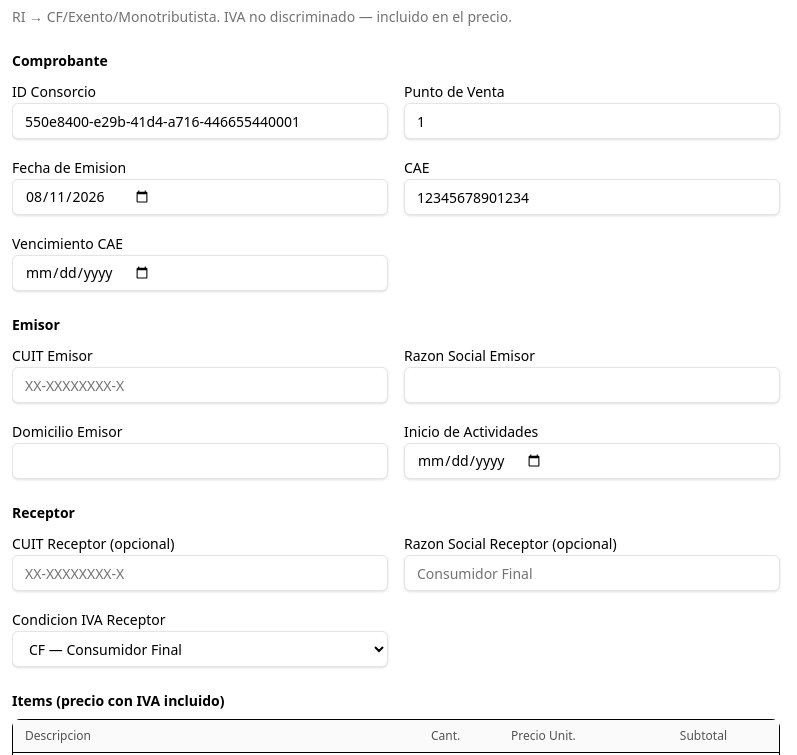
Test: FacturaBForm › [@validation] requires CUIT on submit when total >= $5000
This screenshot has width=797, height=755.
Earlier steps of the test are not shown.
Step 1. Type "2026-12-31" into the date field labelled "Vencimiento CAE" → [200, 273], box left=12, top=255, right=388, bottom=291
Step 2. Type "20123456786" into the field labelled "CUIT Emisor" → [200, 385], box left=12, top=367, right=388, bottom=403
Step 3. Type "Administracion Norte SA" into the field labelled "Razon Social Emisor" → [592, 385], box left=404, top=367, right=780, bottom=403
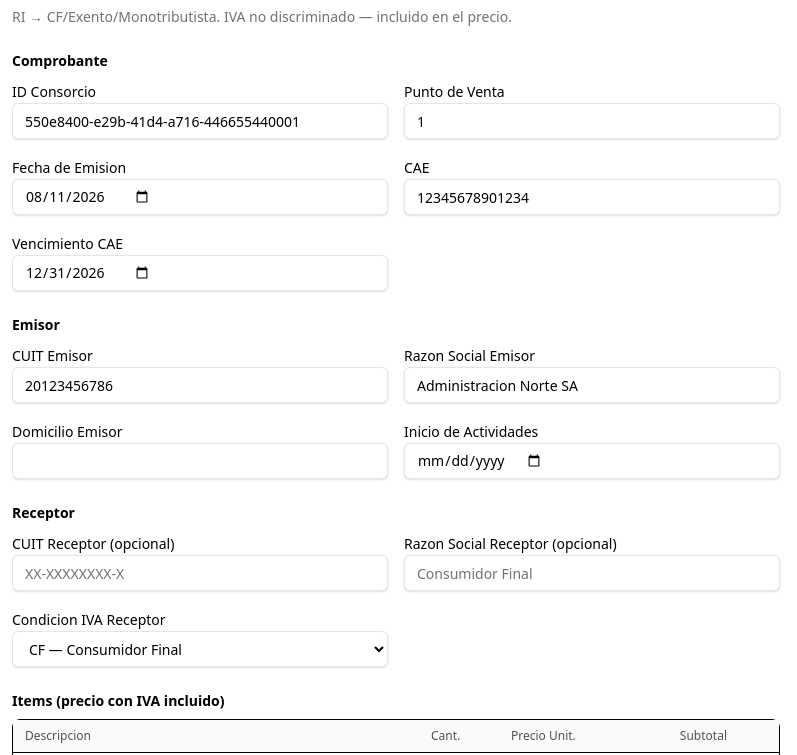
Step 4. Type "Av. Corrientes 1234" into the field labelled "Domicilio Emisor" → [200, 461], box left=12, top=443, right=388, bottom=479
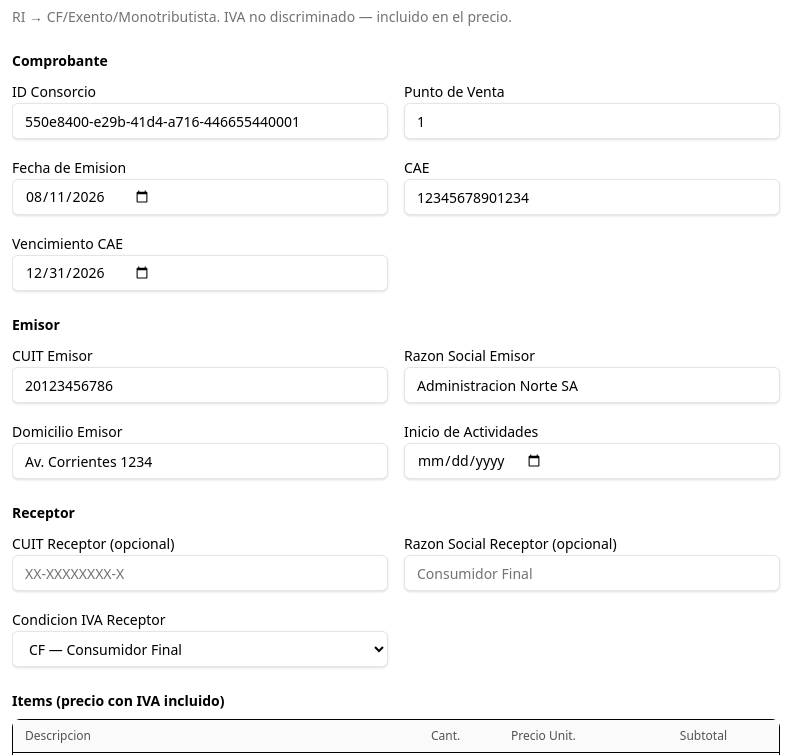
Step 5. Type "2020-01-01" into the date field labelled "Inicio de Actividades" → [592, 461], box left=404, top=443, right=780, bottom=479
(page scrolled)
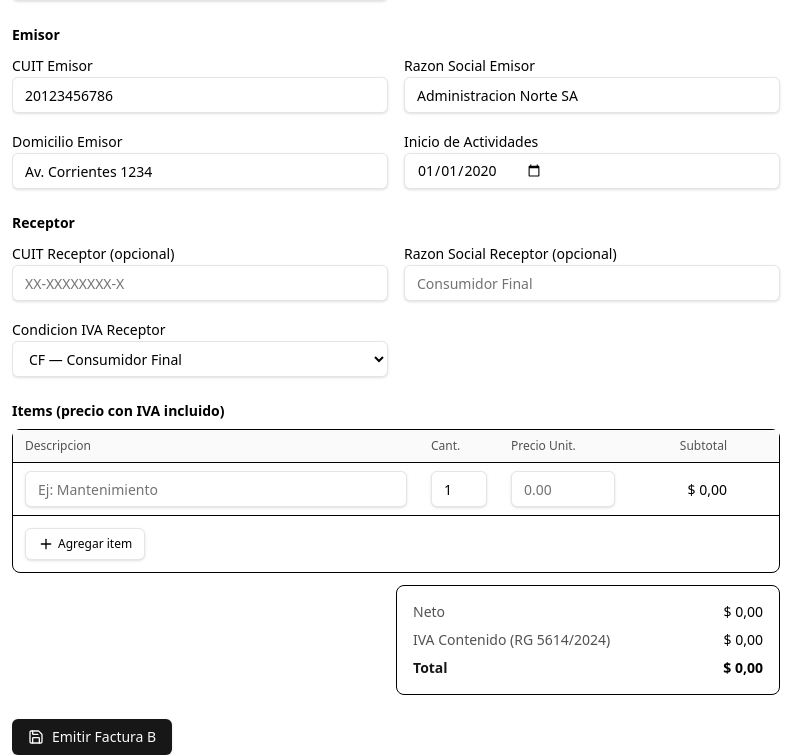
Step 6. Type "Limpieza general" into the field named "Descripcion item 1" → [216, 489], box left=25, top=471, right=407, bottom=507
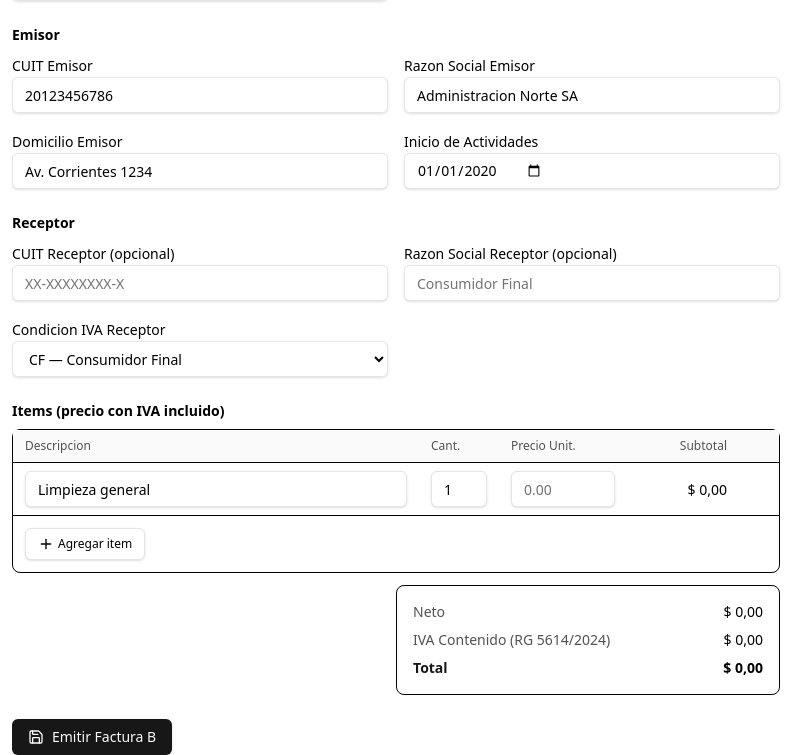
Step 7. Type "35000" into the number field named "Precio unitario item 1" → [563, 489], box left=511, top=471, right=615, bottom=507
(page scrolled)
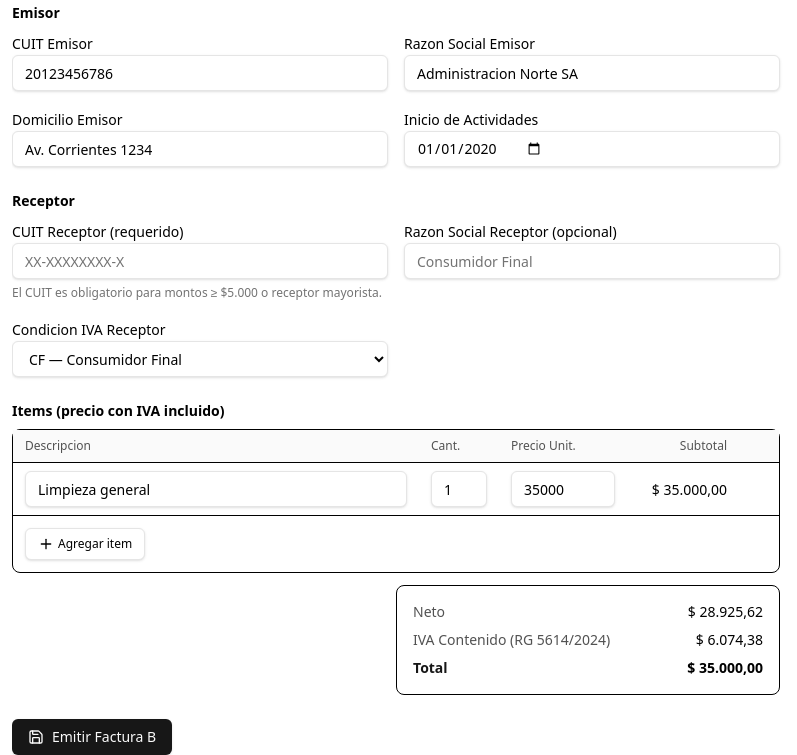
Step 8. Click the button "Emitir Factura B" → [92, 737], box left=12, top=719, right=172, bottom=754
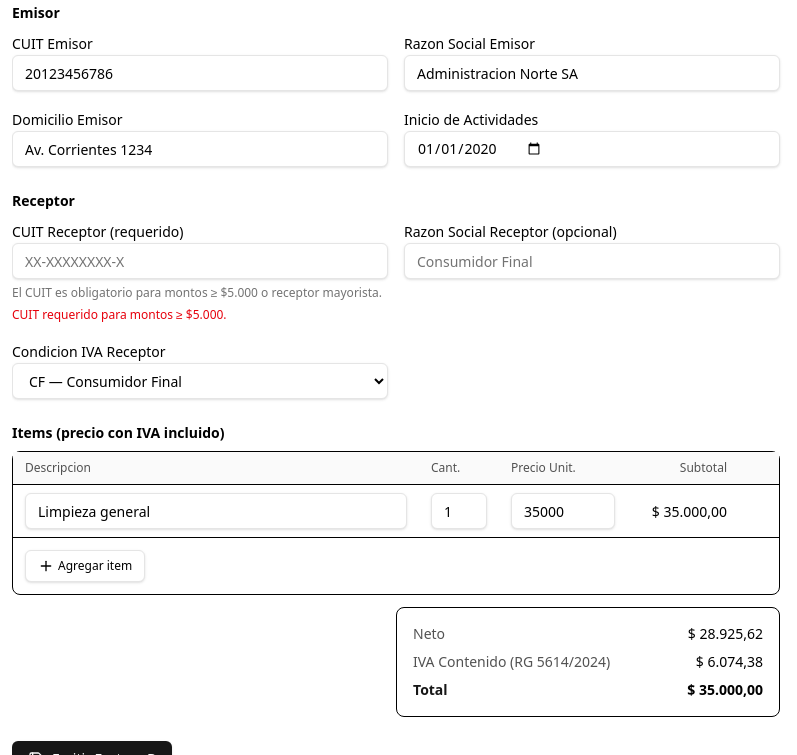
Check: the text "CUIT requerido para montos ≥ $5.000." is shown, box left=12, top=306, right=227, bottom=323
